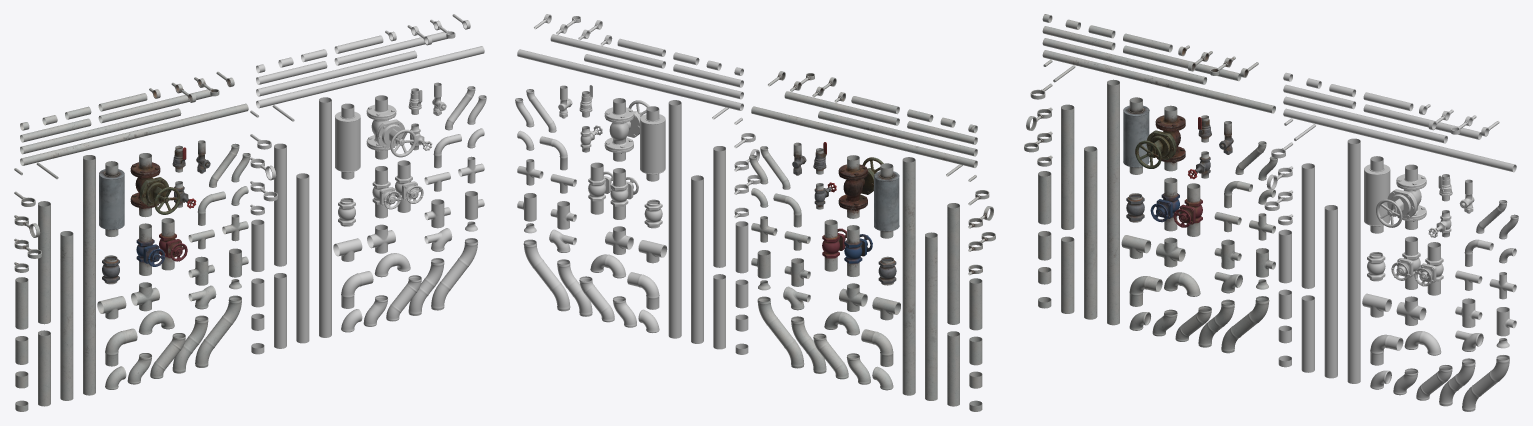
The model's file is modular_pipes_2k.fbx.
3 views of the same model, side by side, from view 1: azimuth 30°, elevation 25°; view 2: azimuth 150°, elevation 25°; view 3: azimuth 330°, elevation 25° (orthographic). The views are drawn at different scales.
Parts seen in each view (by area): view 1: pipe_200cm_pvc, pipe_200cm_metal, pipe_140cm_metal, pipe_140cm_pvc, pipe_thin_200cm_pvc, pipe_thin_200cm_metal, pipe_valve_large_metal, pipe_valve_large_pvc, pipe_chamber_large_metal, pipe_chamber_large_pvc, pipe_100cm_metal, pipe_100cm_pvc (+35 smaller); view 2: pipe_200cm_pvc, pipe_200cm_metal, pipe_140cm_pvc, pipe_140cm_metal, pipe_thin_200cm_metal, pipe_thin_200cm_pvc, pipe_chamber_large_metal, pipe_chamber_large_pvc, pipe_valve_large_pvc, pipe_valve_large_metal, pipe_100cm_metal, pipe_100cm_pvc (+35 smaller); view 3: pipe_200cm_metal, pipe_200cm_pvc, pipe_140cm_metal, pipe_140cm_pvc, pipe_thin_200cm_metal, pipe_thin_200cm_pvc, pipe_valve_large_pvc, pipe_valve_large_metal, pipe_100cm_pvc, pipe_100cm_metal, pipe_chamber_large_pvc, pipe_chamber_large_metal (+33 smaller).
Boxes of the visible parts, x1=… form: pipe_200cm_pvc: x1=83, y1=155, x2=95, y2=395; pipe_200cm_metal: x1=319, y1=97, x2=331, y2=337; pipe_140cm_metal: x1=296, y1=173, x2=309, y2=343; pipe_140cm_pvc: x1=60, y1=231, x2=73, y2=400; pipe_thin_200cm_pvc: x1=20, y1=103, x2=248, y2=165; pipe_thin_200cm_metal: x1=256, y1=46, x2=484, y2=108; pipe_valve_large_metal: x1=366, y1=95, x2=416, y2=159; pipe_valve_large_pvc: x1=130, y1=153, x2=180, y2=217; pipe_chamber_large_metal: x1=335, y1=103, x2=360, y2=179; pipe_chamber_large_pvc: x1=99, y1=161, x2=124, y2=236; pipe_100cm_metal: x1=274, y1=143, x2=286, y2=266; pipe_100cm_pvc: x1=38, y1=201, x2=50, y2=324; pipe_200cm_pvc: x1=902, y1=157, x2=915, y2=395; pipe_200cm_metal: x1=668, y1=100, x2=681, y2=338; pipe_140cm_pvc: x1=925, y1=232, x2=937, y2=400; pipe_140cm_metal: x1=691, y1=175, x2=703, y2=343; pipe_thin_200cm_metal: x1=517, y1=49, x2=743, y2=110; pipe_thin_200cm_pvc: x1=751, y1=106, x2=977, y2=167; pipe_chamber_large_metal: x1=640, y1=106, x2=665, y2=181; pipe_chamber_large_pvc: x1=874, y1=163, x2=899, y2=238; pipe_valve_large_pvc: x1=838, y1=155, x2=883, y2=218; pipe_valve_large_metal: x1=604, y1=98, x2=649, y2=161; pipe_100cm_metal: x1=713, y1=146, x2=725, y2=267; pipe_100cm_pvc: x1=947, y1=203, x2=959, y2=324; pipe_200cm_metal: x1=1347, y1=138, x2=1360, y2=383; pipe_200cm_pvc: x1=1107, y1=79, x2=1119, y2=325; pipe_140cm_metal: x1=1324, y1=205, x2=1337, y2=378; pipe_140cm_pvc: x1=1084, y1=146, x2=1097, y2=319; pipe_thin_200cm_metal: x1=1283, y1=108, x2=1516, y2=172; pipe_thin_200cm_pvc: x1=1042, y1=50, x2=1275, y2=113; pipe_valve_large_pvc: x1=1135, y1=105, x2=1185, y2=171; pipe_valve_large_metal: x1=1376, y1=164, x2=1426, y2=229; pipe_100cm_pvc: x1=1061, y1=104, x2=1074, y2=229; pipe_100cm_metal: x1=1301, y1=163, x2=1314, y2=288; pipe_chamber_large_pvc: x1=1123, y1=97, x2=1149, y2=174; pipe_chamber_large_metal: x1=1364, y1=156, x2=1390, y2=233.
Size of the model in its own units: 419 by 243 by 45.78.
